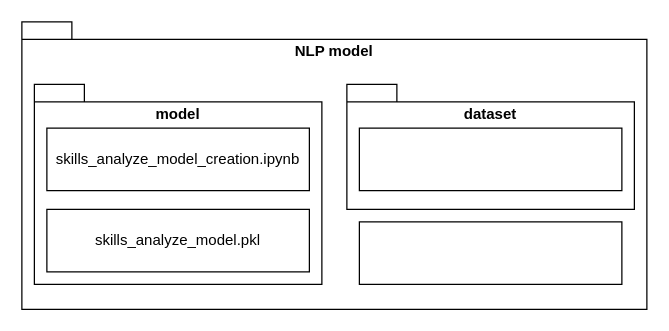
This 669x331 diagram has some shape labels left out. Here are the shapes that lost their labels. From the top down, the centre of each, then its label:
At point (490, 159): "large_dataset_with_labels.csv".
At point (490, 252): "run_skills_analyze_model.py".
